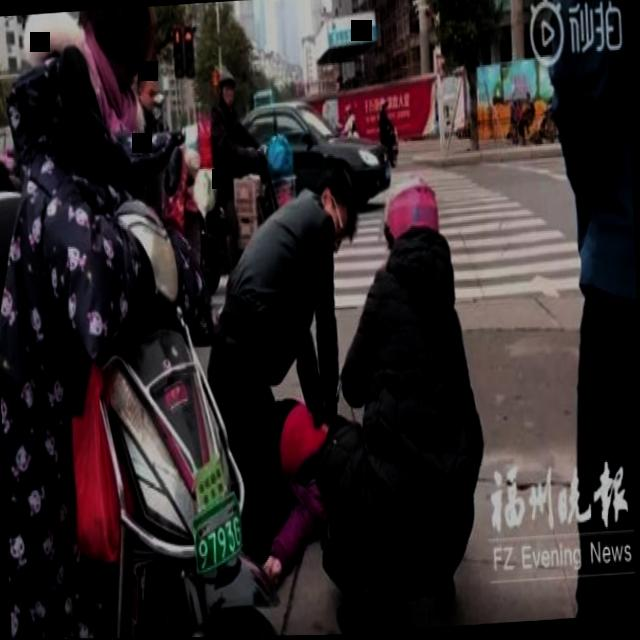Fall-Detected: (215, 358, 404, 583)
